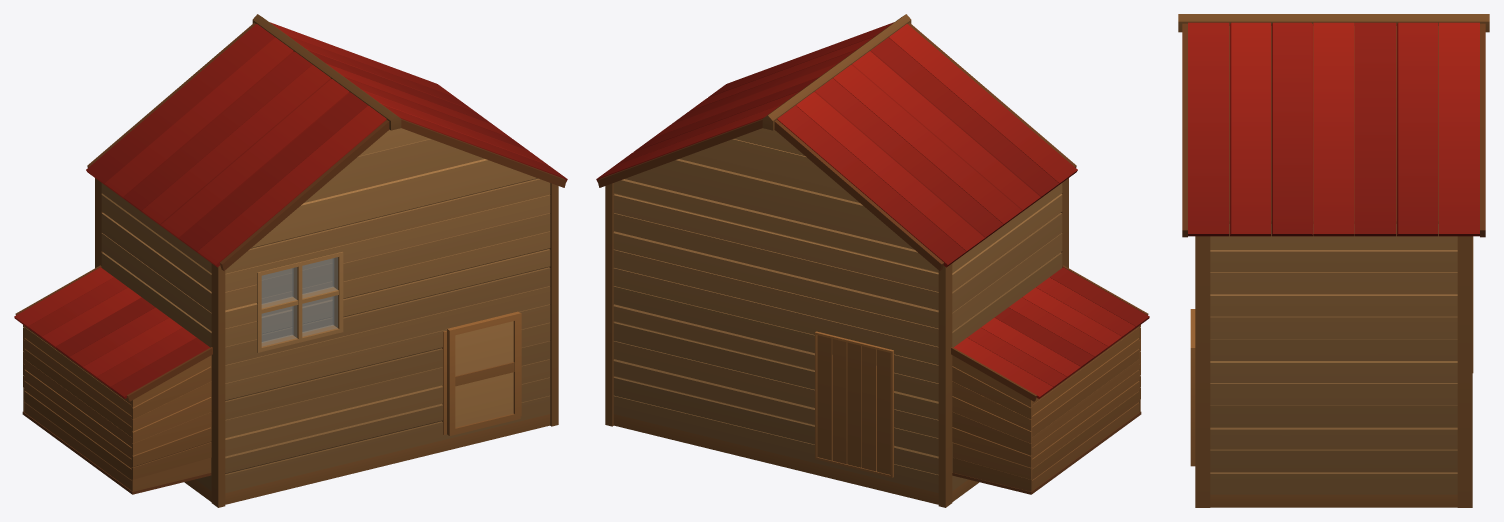
The model's file is Bld_Chicken_Coop_02.obj.
3 views of the same model, side by side, from view 1: azimuth 30°, elevation 25°; view 2: azimuth 150°, elevation 25°; view 3: azimuth 270°, elevation 25° (orthographic). The views are drawn at different scales.
Parts seen in each view (by area): view 1: Bld_Chicken_Coop_02, Bld_Chicken_Coop_Door_Left_02, Bld_Chicken_Coop_Door_Right_02, Bld_Chicken_Coop_Window_02; view 2: Bld_Chicken_Coop_02, Bld_Chicken_Coop_Door_Left_02, Bld_Chicken_Coop_Door_Middle_02; view 3: Bld_Chicken_Coop_02, Bld_Chicken_Coop_Door_Right_02.
Part boxes in pixels (x1,y1,x2,y2): Bld_Chicken_Coop_02: [22, 14, 567, 507]; Bld_Chicken_Coop_Door_Left_02: [14, 265, 212, 401]; Bld_Chicken_Coop_Door_Right_02: [447, 311, 520, 435]; Bld_Chicken_Coop_Window_02: [261, 257, 337, 346]; Bld_Chicken_Coop_02: [596, 14, 1141, 507]; Bld_Chicken_Coop_Door_Left_02: [951, 265, 1149, 401]; Bld_Chicken_Coop_Door_Middle_02: [815, 331, 894, 477]; Bld_Chicken_Coop_02: [1178, 14, 1489, 507]; Bld_Chicken_Coop_Door_Right_02: [1190, 309, 1195, 466].
Bounding box in the file's own units: 1.82 × 1.43 × 1.01.
Materials: 2 (1 with a texture image).
